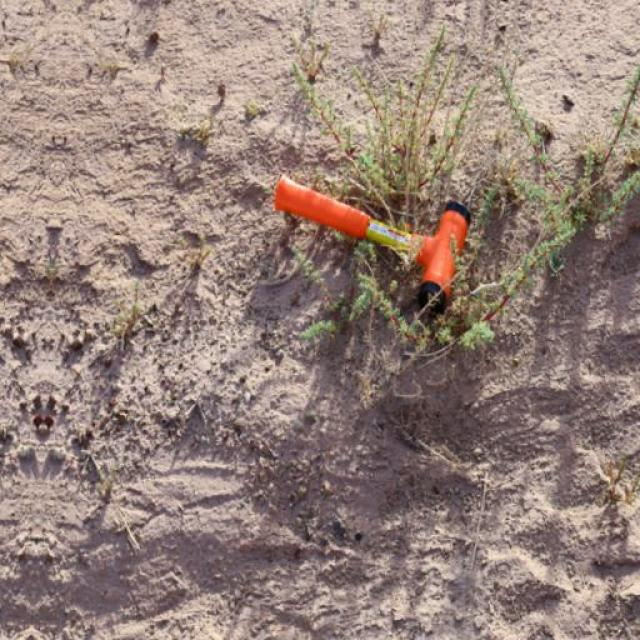mallet: (274, 171, 475, 314)
